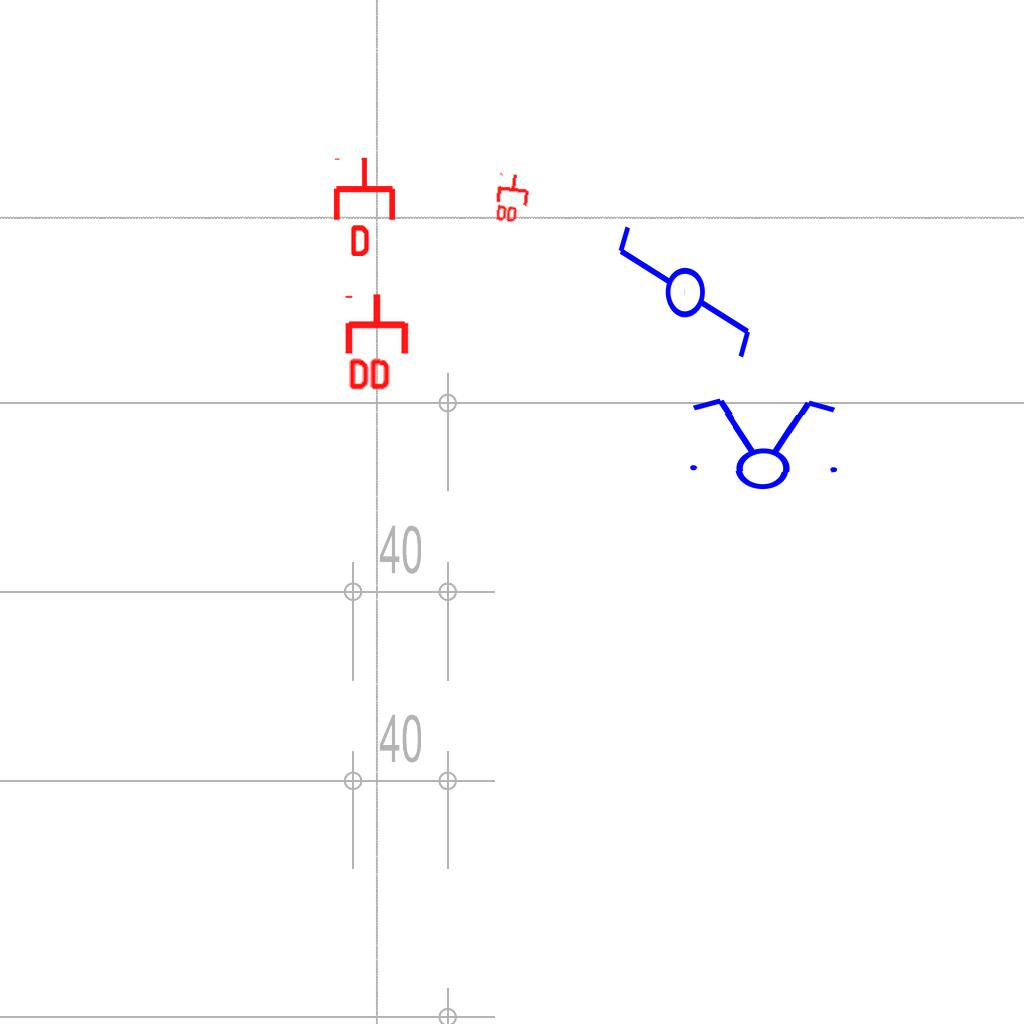Datenanschluss_einfach: (330, 156, 399, 256)
Datenanschluss_zweifach: (344, 291, 413, 394), (493, 171, 533, 226)
Serienschalter: (677, 393, 847, 493)
Wechselschalter: (611, 222, 755, 379)
